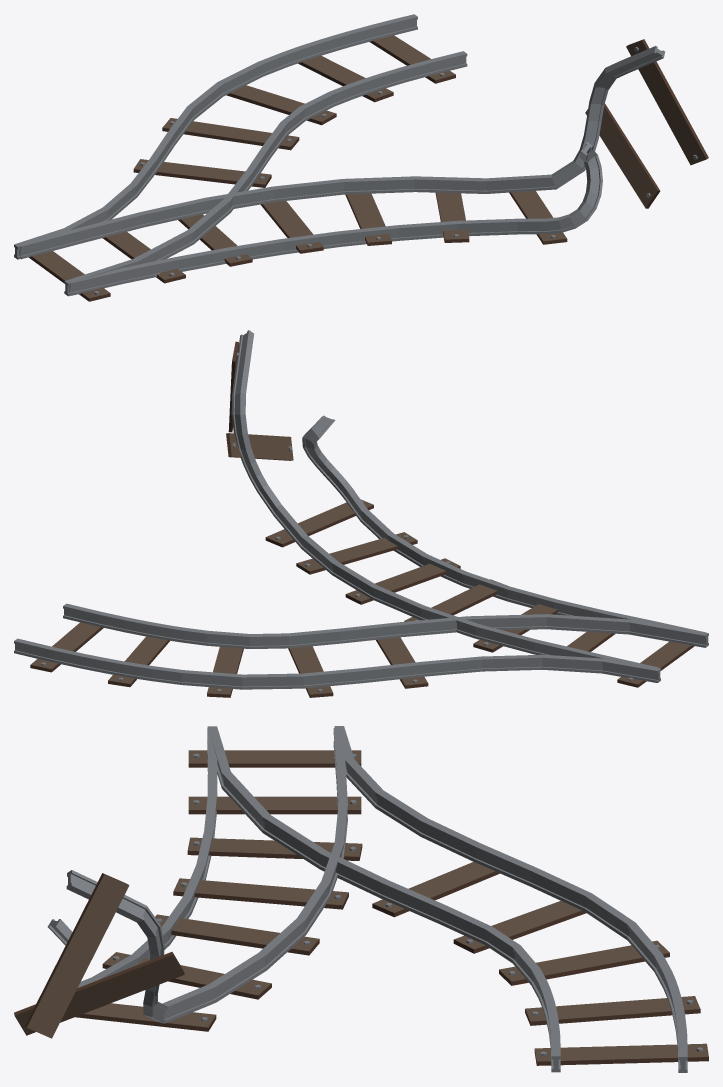
Rendered from Track_CurveLeft 1.fbx.
3 renders of one model, top to bottom at view 1: azimuth 30°, elevation 25°; view 2: azimuth 150°, elevation 25°; view 3: azimuth 270°, elevation 25°, orthographic. The views are drawn at different scales.
Parts seen in each view (by area): view 1: CurveLeft; view 2: CurveLeft; view 3: CurveLeft.
Boxes of the visible parts, box(x1,y1,x2,y2) form: CurveLeft: box(14, 14, 708, 301); CurveLeft: box(14, 330, 708, 697); CurveLeft: box(14, 726, 708, 1072).
Bounding box in the file's own units: 530 × 148 × 443.
